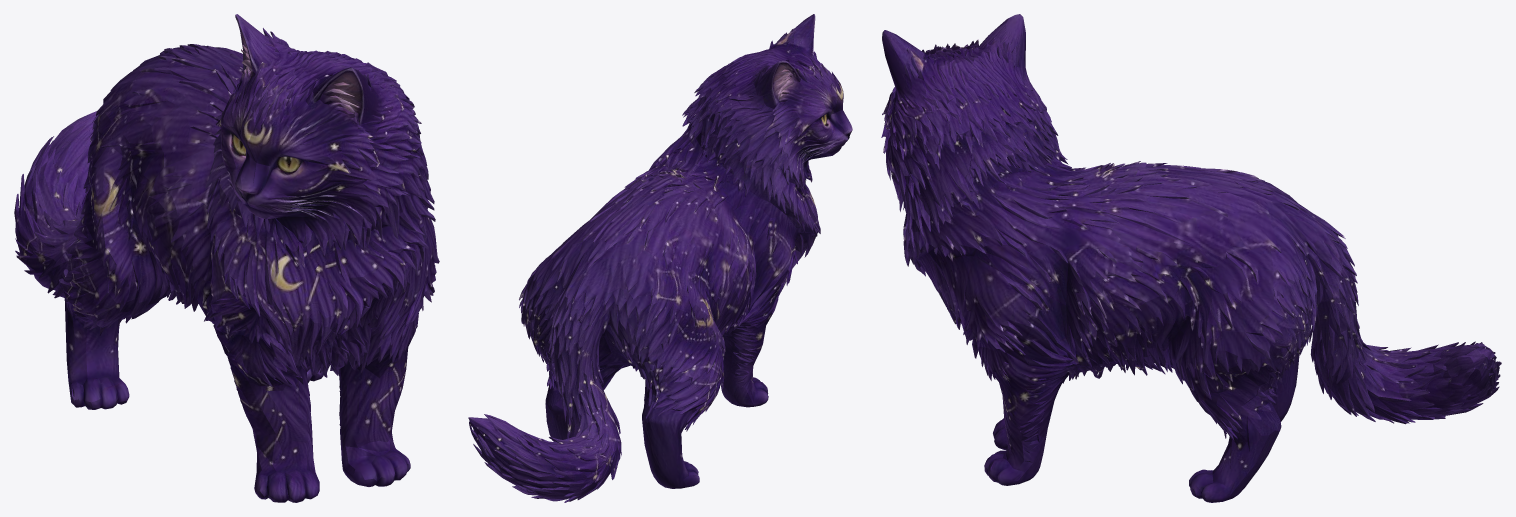
The model's file is cat-roof.glb.
3 renders of one model, left to right at view 1: azimuth 30°, elevation 25°; view 2: azimuth 150°, elevation 25°; view 3: azimuth 270°, elevation 25°, orthographic. The views are drawn at different scales.
Visible parts, largest first — view 1: output_unwrapped; view 2: output_unwrapped; view 3: output_unwrapped.
Boxes of the visible parts, x1,y1,x2,y2 form: output_unwrapped: (14,14,439,502); output_unwrapped: (468,14,852,502); output_unwrapped: (881,14,1501,502).
Bounding box in the file's own units: 0.7678 × 1.37 × 1.89.
1 material, 1 textured.
